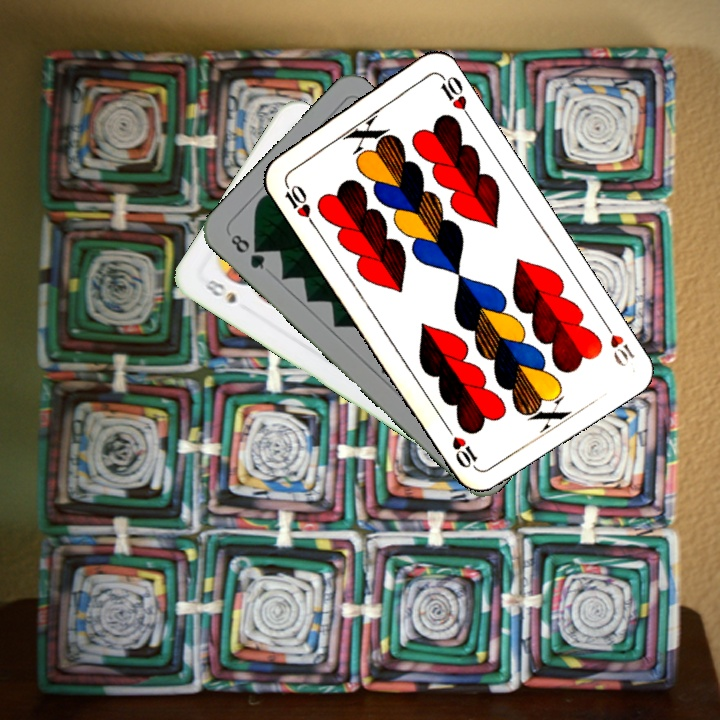G8: (226, 230, 268, 273)
H10: (597, 315, 638, 370), (279, 175, 318, 228)
S8: (200, 275, 240, 307)
